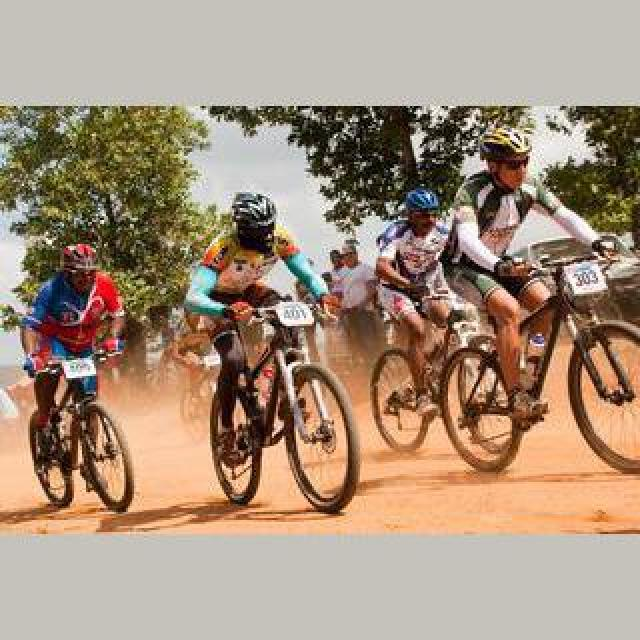MC-Bike: (444, 122, 606, 424), (182, 192, 318, 426), (18, 240, 128, 480), (374, 186, 458, 410), (322, 240, 378, 314)
Person: (436, 240, 640, 478), (190, 298, 362, 514), (370, 278, 490, 458), (24, 342, 134, 512)
